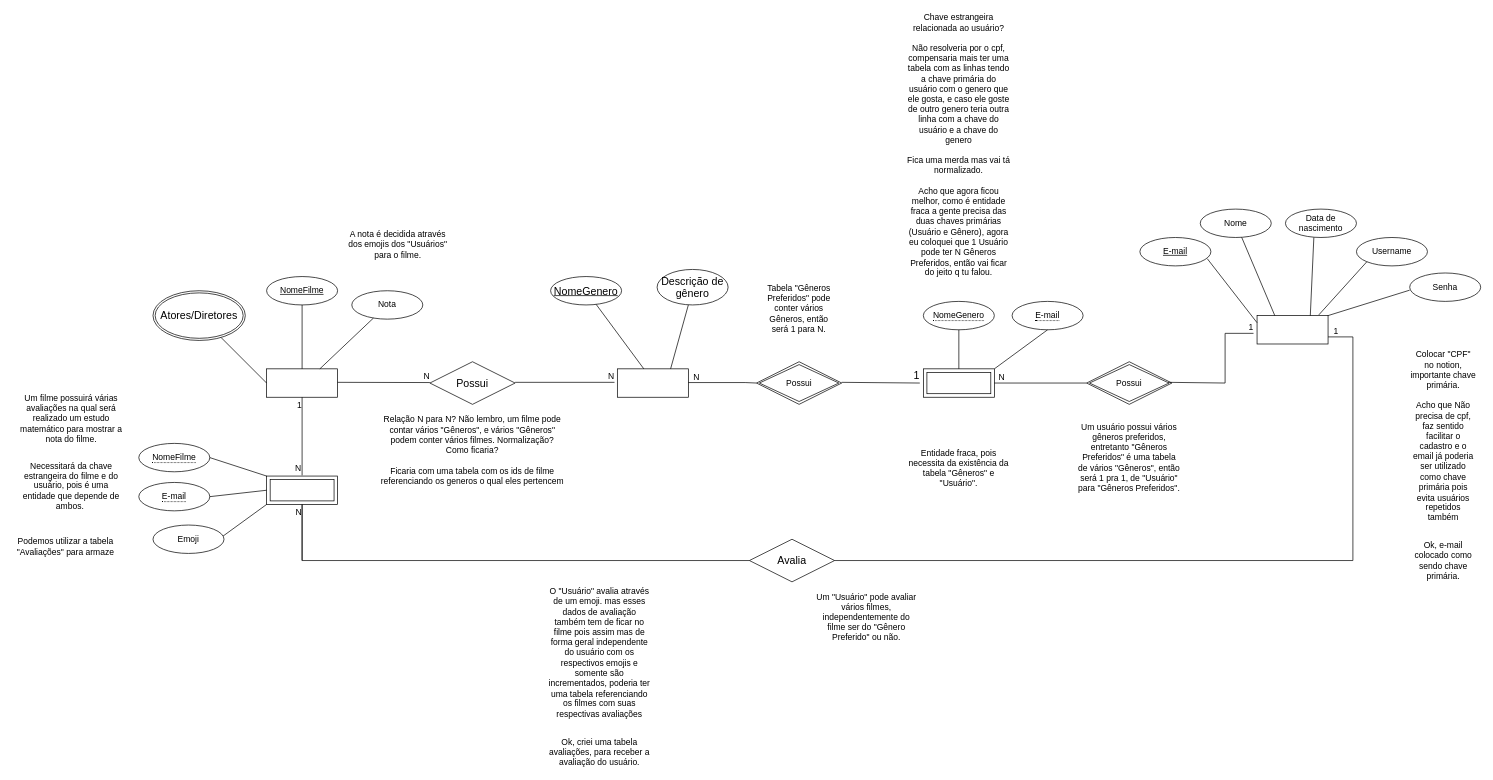
The diagram is 1493 pixels wide and 780 high, and some of its shapes have lost their labels. Here are the shapes that lost their labels. From the top down, the box of each, then its label:
(1256, 315, 1328, 344): Usuário
(266, 368, 338, 397): Filme
(617, 368, 688, 397): Gênero
(923, 368, 994, 397): Gêneros Preferidos
(266, 475, 338, 504): Avaliações
